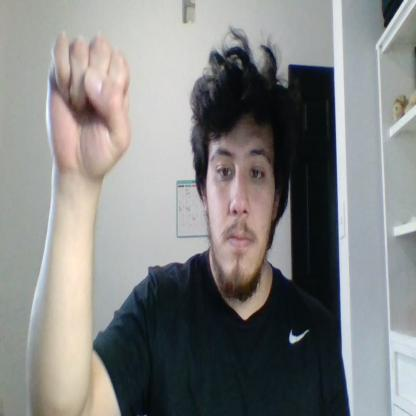S: (46, 28, 131, 174)
